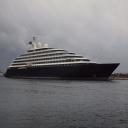cruises: (5, 33, 122, 83)
